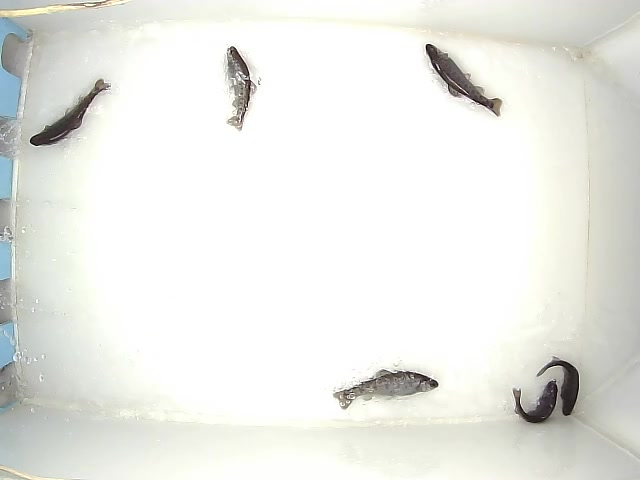fish: (425, 42, 503, 119), (28, 77, 111, 147), (332, 369, 439, 412), (224, 45, 257, 133), (535, 355, 580, 418), (512, 379, 559, 425)
